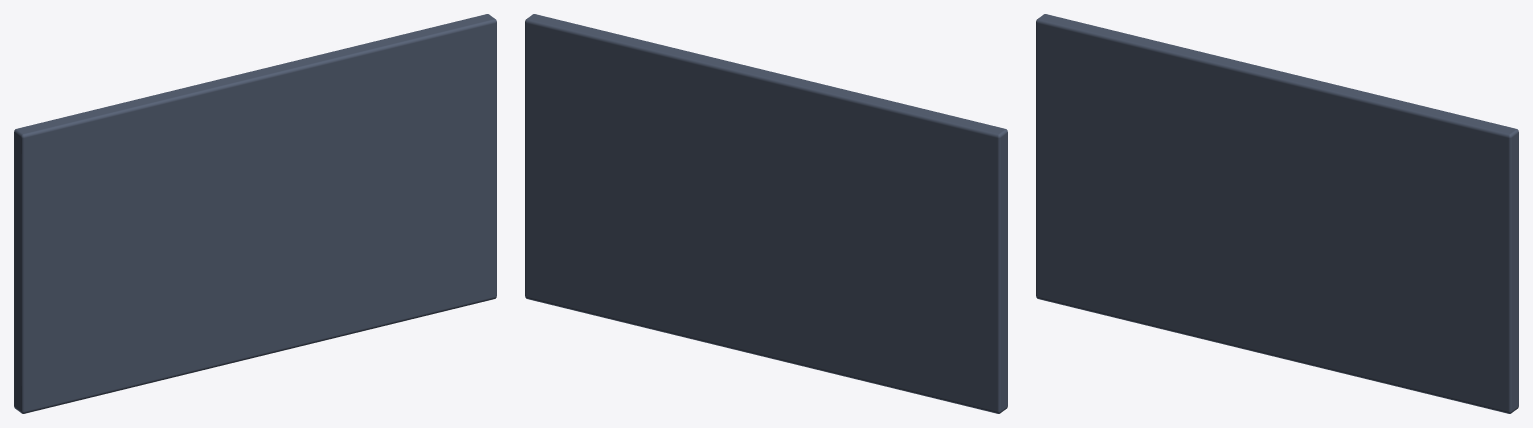
Rendered from 标准电视.glb.
3 renders of one model, left to right at view 1: azimuth 30°, elevation 25°; view 2: azimuth 150°, elevation 25°; view 3: azimuth 330°, elevation 25°, orthographic.
Visible parts, largest first — view 1: tv_standard; view 2: tv_standard; view 3: tv_standard.
Boxes of the visible parts, x1,y1,x2,y2 form: tv_standard: [14, 14, 496, 413]; tv_standard: [525, 14, 1007, 413]; tv_standard: [1036, 14, 1518, 413].
Size of the model in its own units: 1.5 by 0.844 by 0.0504.
